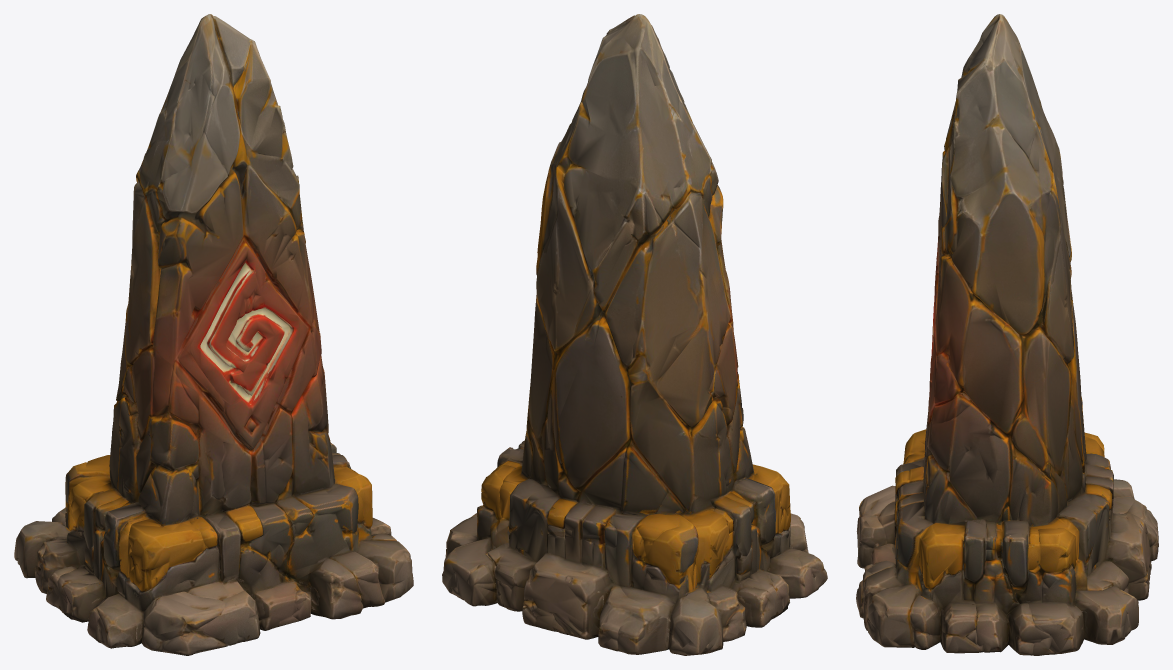
The model's file is obelisko.glb.
3 views of the same model, side by side, from view 1: azimuth 30°, elevation 25°; view 2: azimuth 150°, elevation 25°; view 3: azimuth 270°, elevation 25° (orthographic).
Parts seen in each view (by area): view 1: obelisko; view 2: obelisko; view 3: obelisko.
Boxes of the visible parts, <box> form: obelisko: <box>14,14,413,655</box>; obelisko: <box>442,14,827,655</box>; obelisko: <box>856,14,1158,655</box>.
Size of what is drawn, in the model's own units: 1.41 by 2.5 by 1.22.
1 material, 1 textured.
